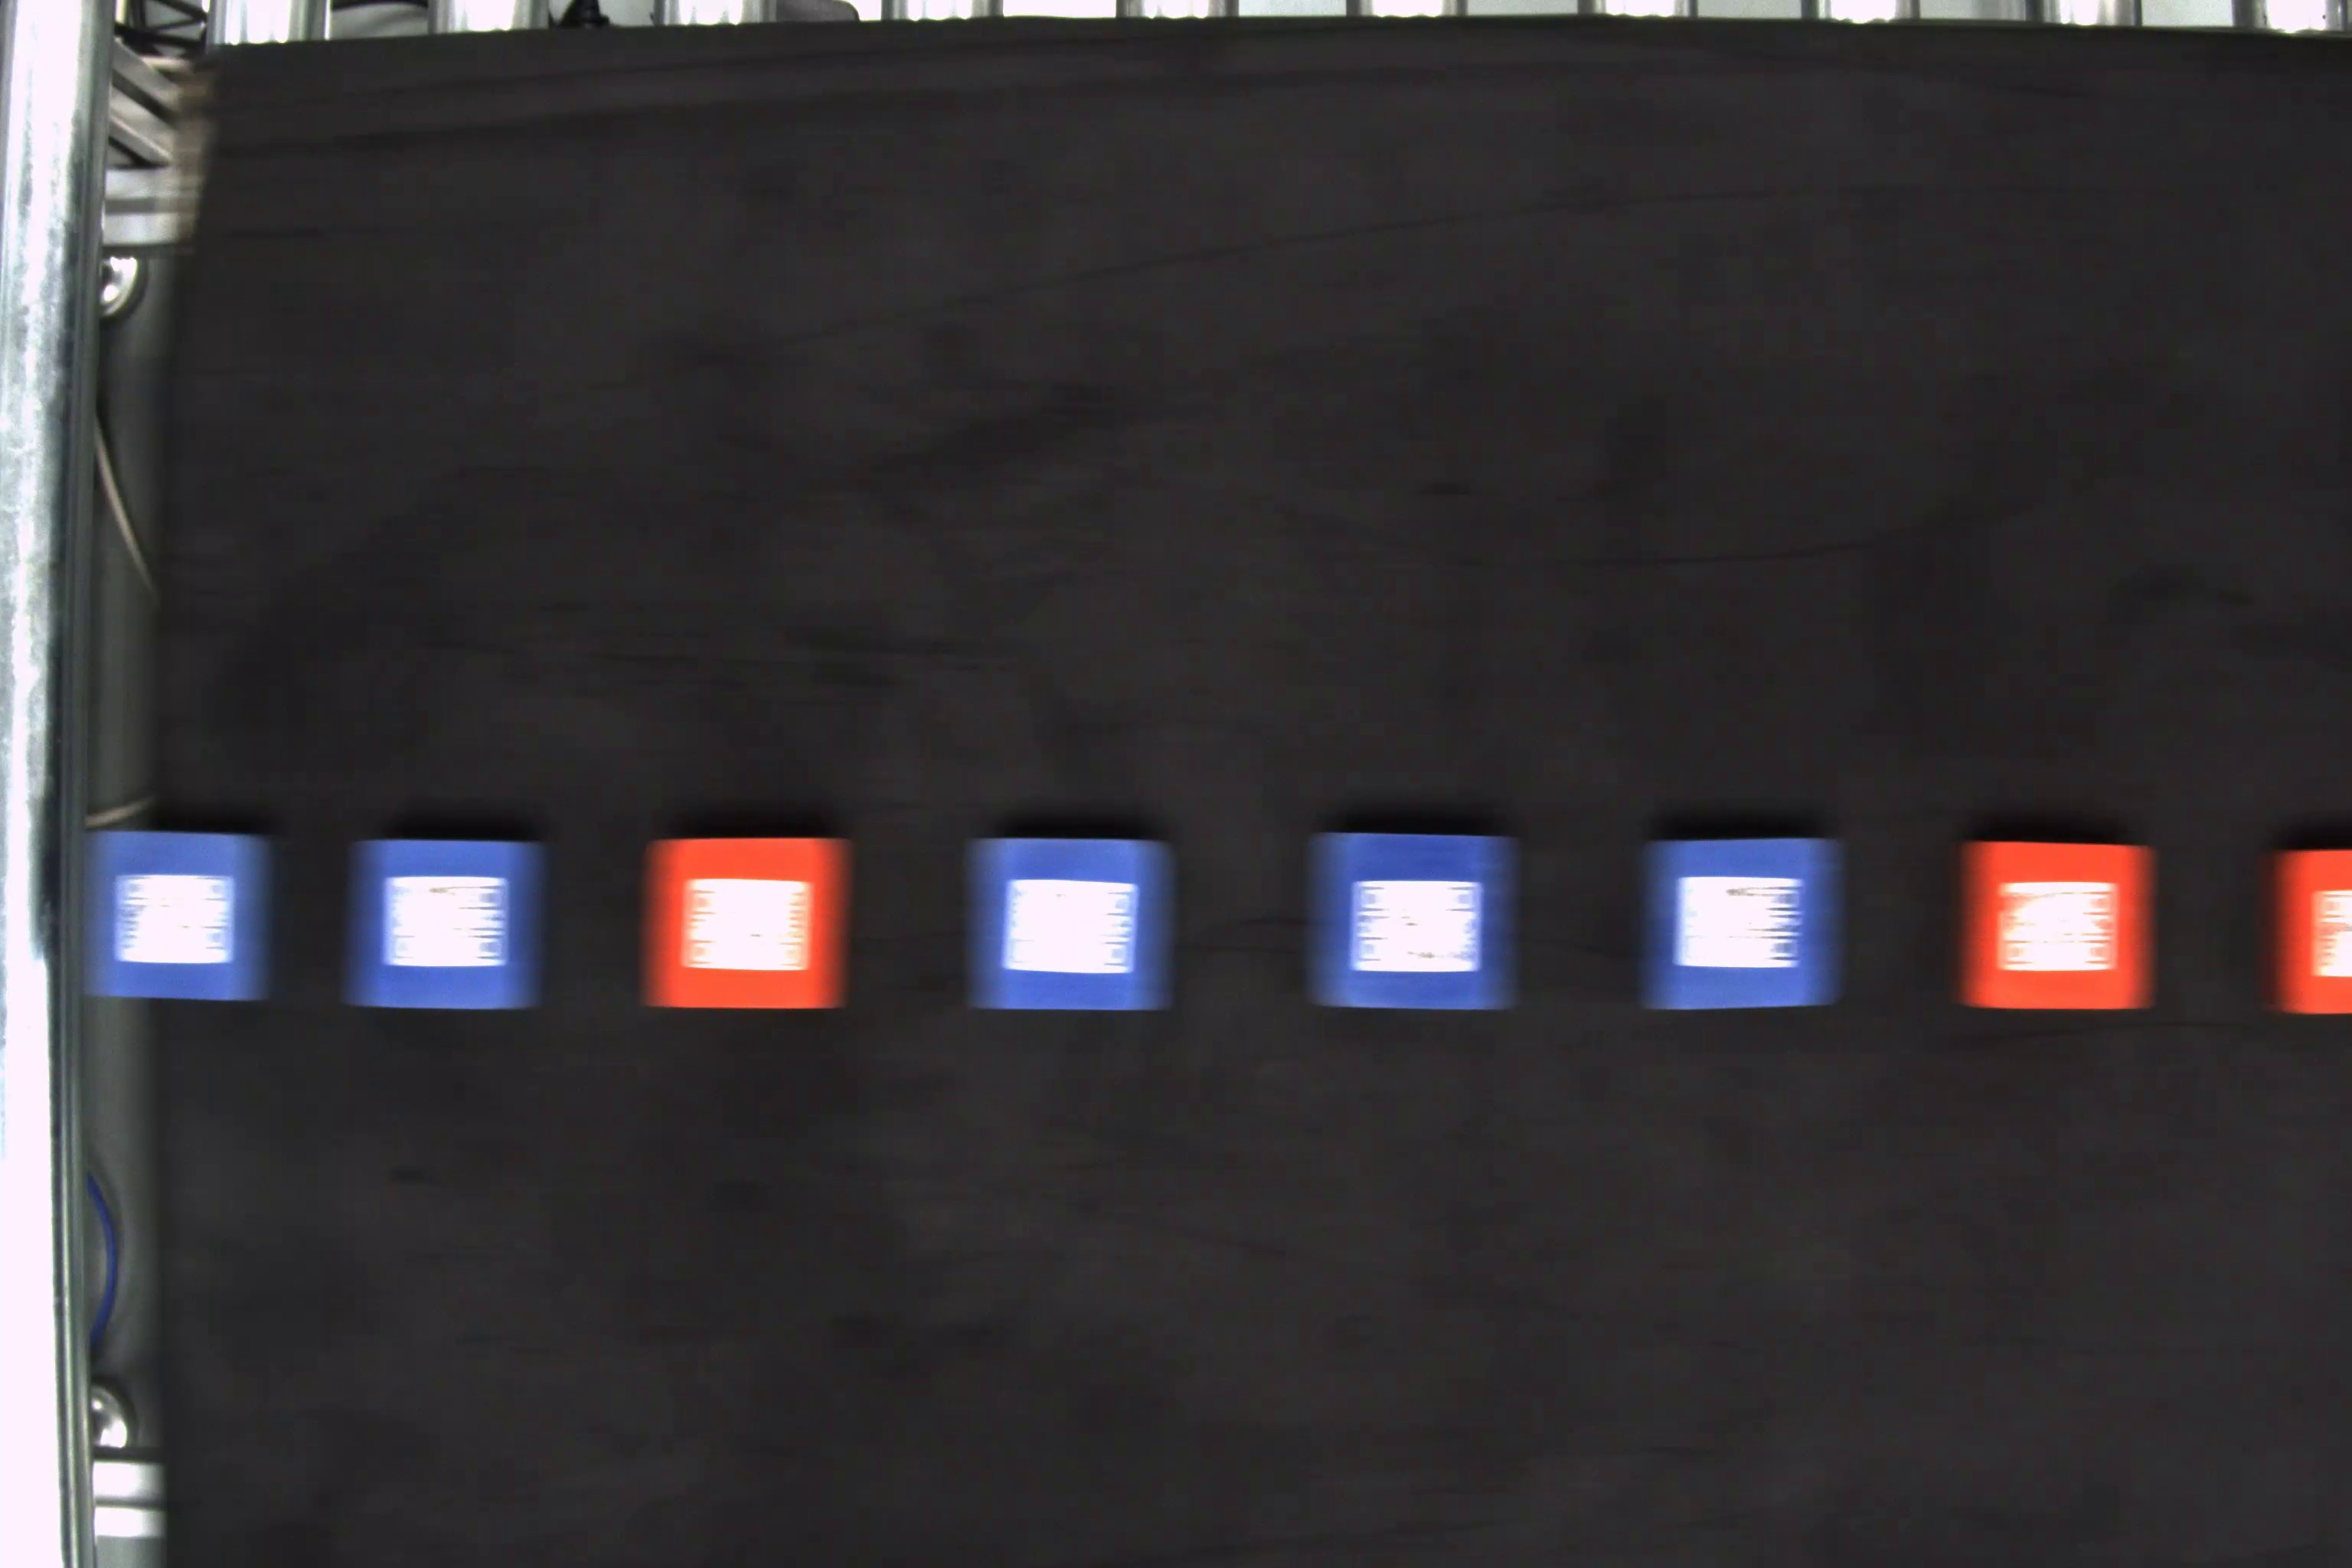wood: (966, 831, 1181, 1017), (644, 835, 852, 1017), (1307, 828, 1521, 1004), (1640, 835, 1850, 1013), (1956, 836, 2158, 1013), (346, 836, 549, 1008), (94, 831, 273, 1004), (2263, 843, 2352, 1020)
